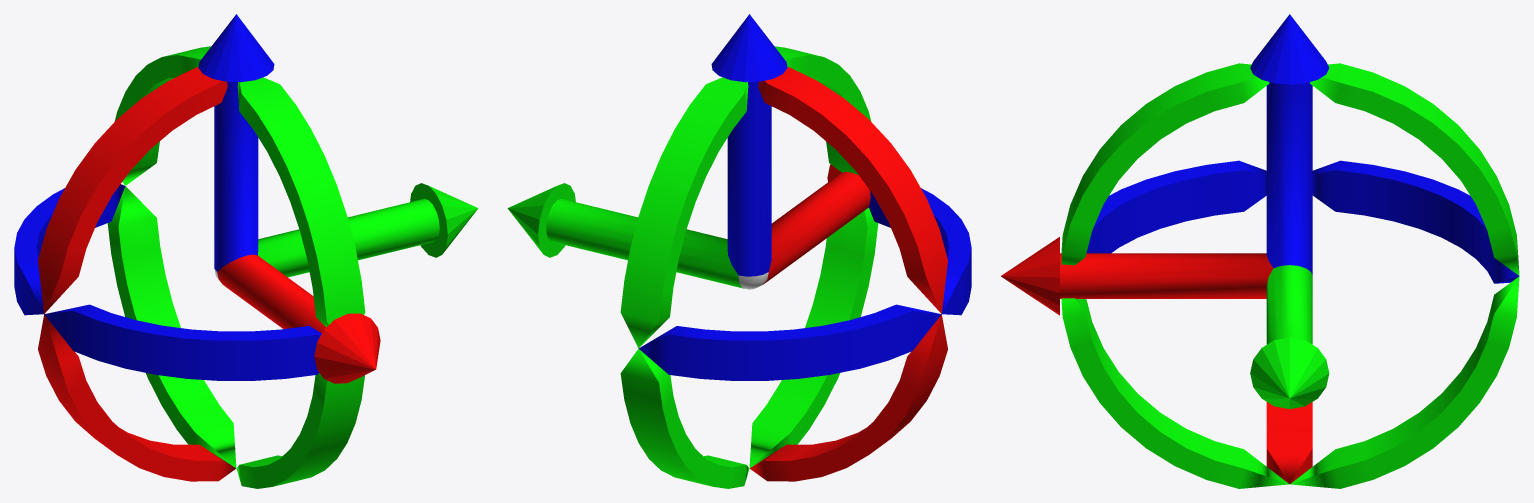
Rendered from unreal-gizmo.glb.
The picture shows the model from 3 angles, left to right: view 1: azimuth 30°, elevation 25°; view 2: azimuth 150°, elevation 25°; view 3: azimuth 270°, elevation 25°; orthographic projection. The views are drawn at different scales.
Visible parts, largest first — view 1: Trans; view 2: Trans; view 3: Trans.
Part boxes in pixels (bbox=[...]): Trans: bbox=[14, 14, 478, 488]; Trans: bbox=[507, 14, 971, 488]; Trans: bbox=[1001, 14, 1519, 488].
Size of the model in its own units: 2.26 by 2.26 by 2.26.
